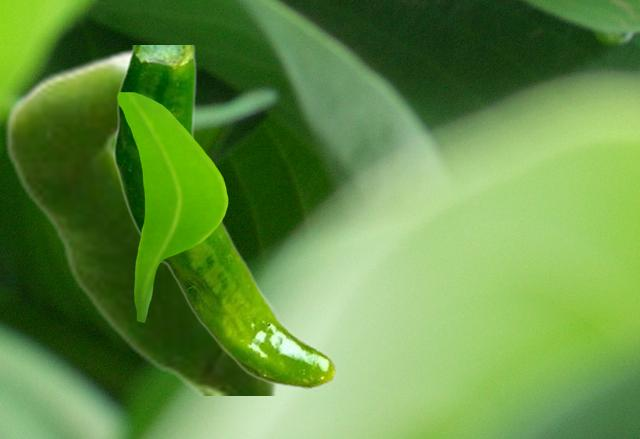green_chili: (4, 45, 277, 394), (113, 45, 336, 389)
